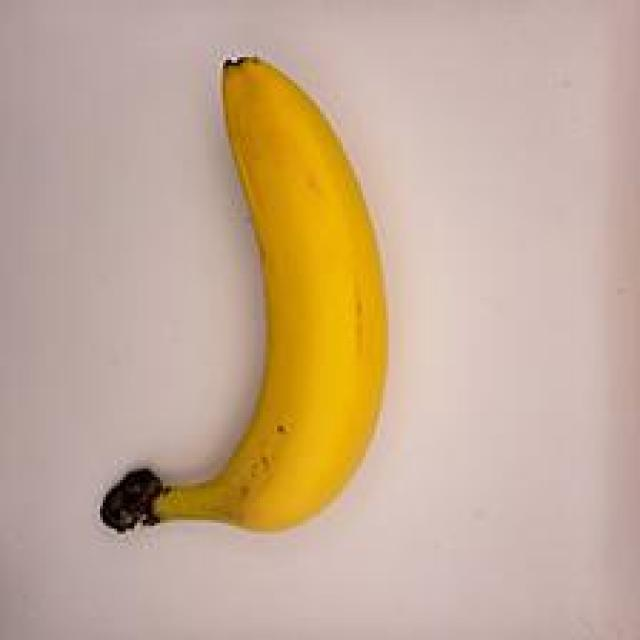ripe: (57, 24, 416, 565)
